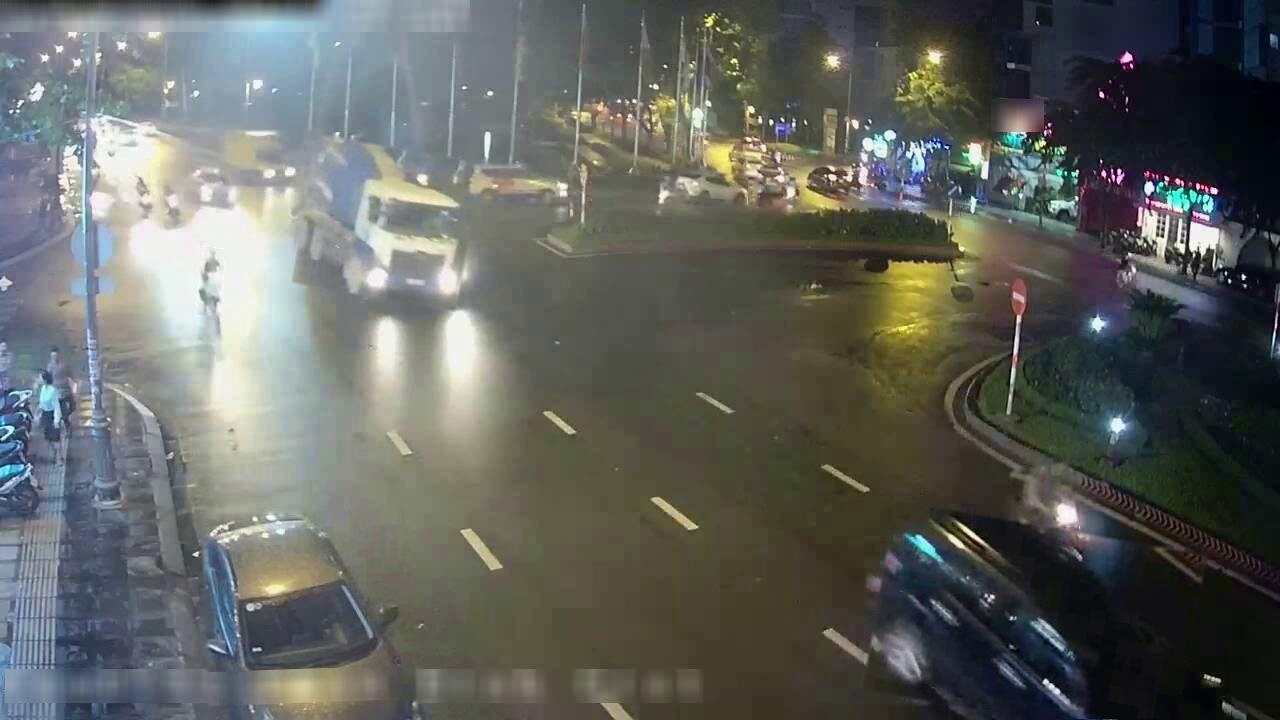Bus: (342, 180, 466, 306)
Car: (868, 513, 1105, 719), (200, 513, 395, 670), (469, 164, 568, 204), (675, 171, 747, 204), (190, 167, 237, 208), (806, 165, 850, 197)
Motorcycle: (0, 463, 39, 516), (0, 440, 28, 467)
Motorcyclist: (1017, 464, 1080, 536), (198, 249, 222, 315), (162, 183, 182, 225), (133, 174, 153, 215), (654, 179, 676, 211)
Pedestrian: (37, 370, 62, 444), (1191, 249, 1202, 280)
Sign: (1010, 278, 1027, 316)
Truck: (221, 131, 296, 183)
